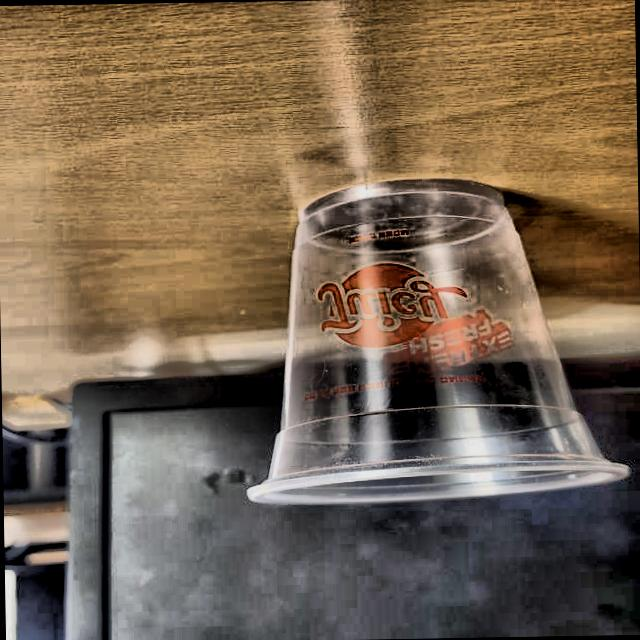plastic cup: (238, 173, 640, 514)
